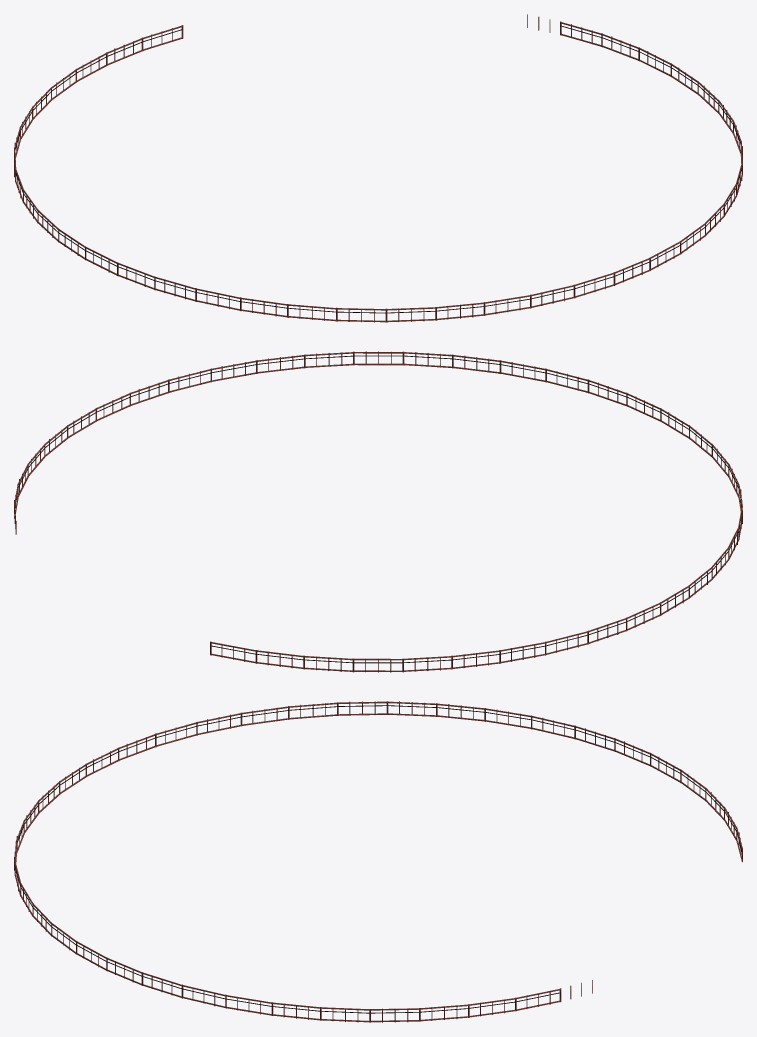
Rendered from bigFence.fbx.
3 views of the same model, one above another, from view 1: azimuth 30°, elevation 25°; view 2: azimuth 150°, elevation 25°; view 3: azimuth 270°, elevation 25° (orthographic).
Visible parts, largest first — view 1: Cylinder.045; view 2: Cylinder.045; view 3: Cylinder.045.
Part boxes in pixels (x1,y1,x2,y2): Cylinder.045: (14,14,742,322); Cylinder.045: (14,351,742,672); Cylinder.045: (14,701,742,1022).
Bounding box in the file's own units: 5982 × 122 × 5981.
2 materials, 1 textured.
